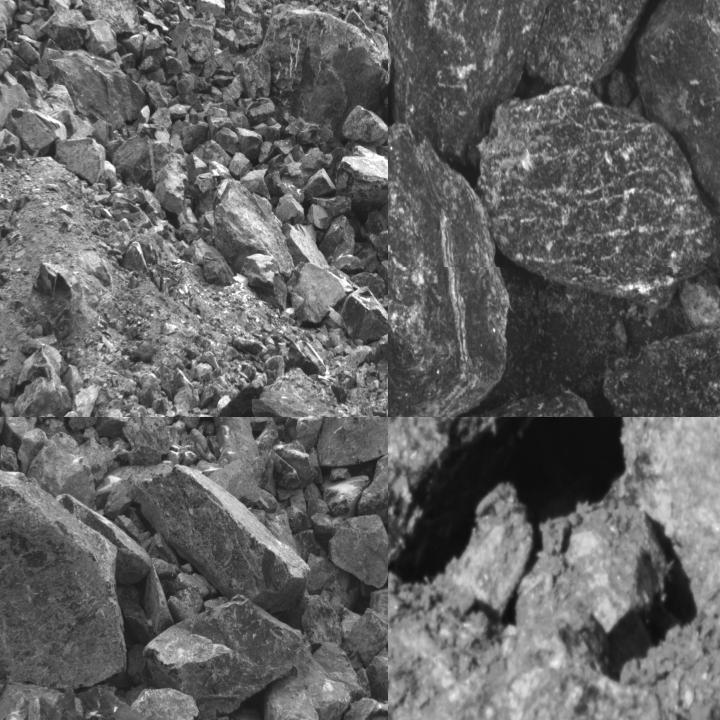stone: (480, 86, 719, 302), (388, 417, 678, 570), (388, 0, 619, 166), (388, 129, 509, 416), (0, 441, 123, 683), (388, 633, 719, 719), (136, 462, 310, 608), (634, 0, 719, 239), (143, 600, 304, 719), (527, 0, 719, 86), (263, 12, 386, 127), (452, 486, 536, 607), (600, 333, 719, 416), (212, 176, 292, 282), (435, 389, 630, 416), (29, 434, 98, 509), (257, 367, 354, 416), (287, 261, 354, 329), (328, 513, 387, 589), (119, 687, 235, 719), (31, 262, 81, 336), (319, 417, 387, 470), (679, 269, 719, 359), (336, 145, 387, 206), (5, 109, 68, 158), (0, 682, 81, 719), (240, 252, 288, 313), (288, 595, 341, 649), (339, 286, 387, 344), (78, 686, 162, 719), (320, 214, 366, 273), (112, 135, 156, 193), (153, 134, 186, 211), (346, 607, 387, 666), (54, 138, 105, 185), (270, 438, 317, 489), (358, 449, 387, 527), (167, 17, 216, 62), (82, 0, 142, 36), (14, 379, 72, 416), (213, 417, 258, 462), (42, 8, 89, 50), (321, 477, 371, 516), (18, 346, 66, 386), (366, 635, 387, 719), (343, 106, 387, 146), (239, 52, 270, 100), (85, 20, 117, 59), (146, 80, 180, 112), (303, 168, 336, 200), (203, 252, 234, 285), (240, 169, 272, 199), (244, 96, 275, 125), (235, 127, 263, 159), (296, 123, 334, 146), (205, 102, 232, 134), (370, 585, 387, 633), (9, 39, 41, 64), (213, 127, 242, 153), (228, 150, 252, 180), (123, 242, 147, 272), (0, 46, 15, 91), (374, 331, 387, 379), (282, 116, 306, 138), (0, 0, 9, 55), (274, 136, 296, 156), (378, 257, 387, 289), (378, 136, 387, 167)
